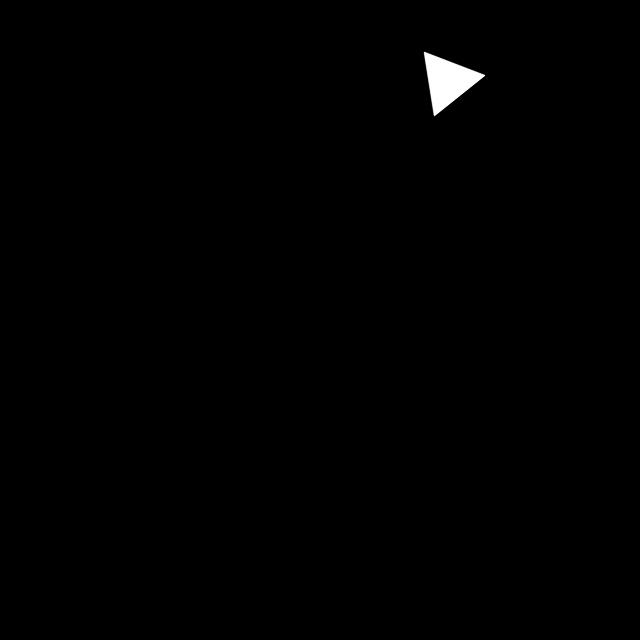Triangle: (410, 39, 497, 131)
